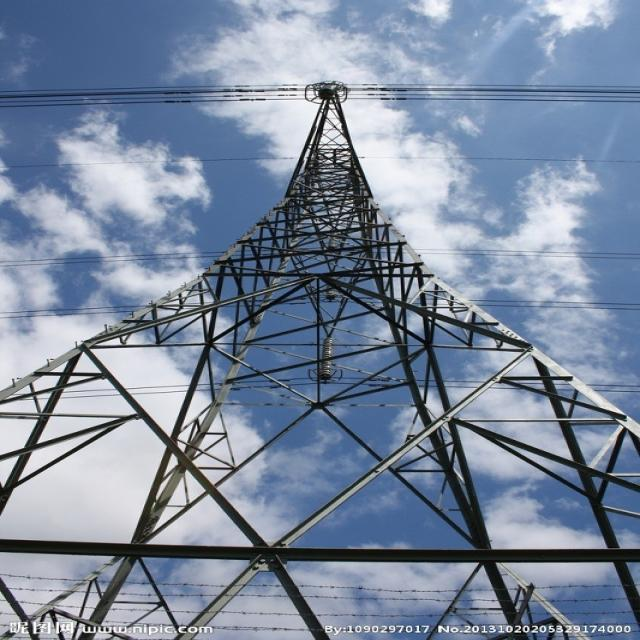non-critical vegetation: (8, 77, 636, 588)
